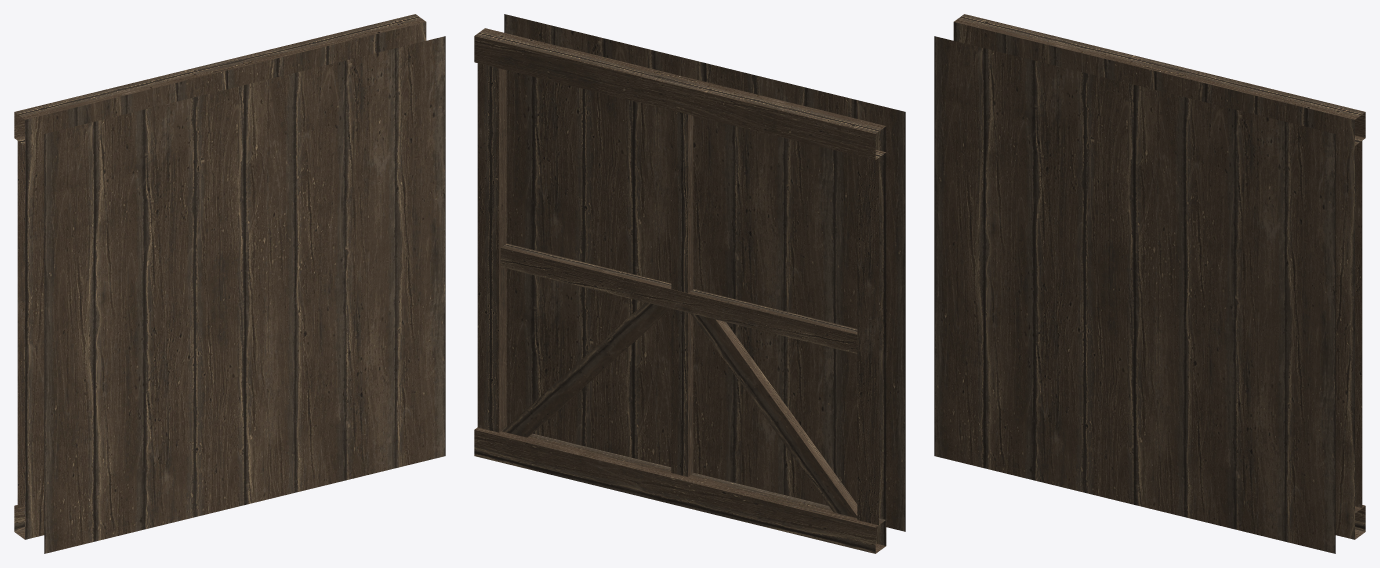
Rendered from ARC1010324.fbx.
The picture shows the model from 3 angles, left to right: view 1: azimuth 30°, elevation 25°; view 2: azimuth 150°, elevation 25°; view 3: azimuth 330°, elevation 25°; orthographic projection.
Parts seen in each view (by area): view 1: smARC1010324; view 2: smARC1010324; view 3: smARC1010324.
Boxes of the visible parts, x1,y1,x2,y2 form: smARC1010324: (14,14,445,553); smARC1010324: (474,14,905,553); smARC1010324: (934,14,1365,553).
Size of the model in its own units: 268 by 268 by 34.9.
1 material, 1 textured.
